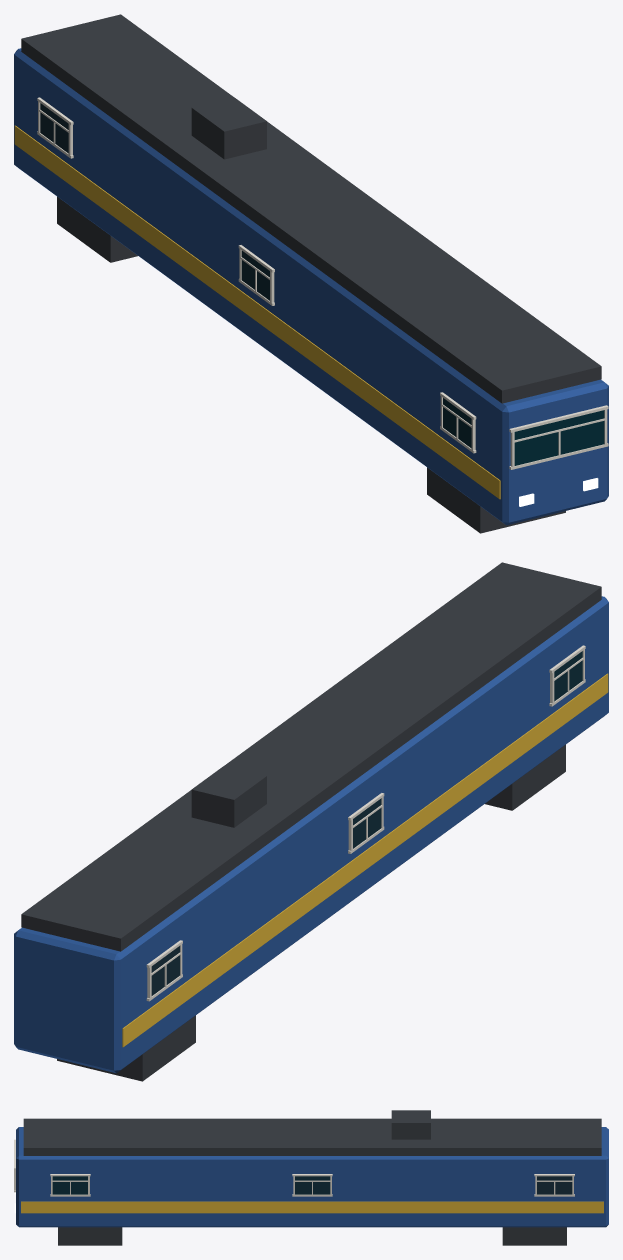
Rendered from train_loco.glb.
3 views of the same model, one above another, from view 1: azimuth 30°, elevation 25°; view 2: azimuth 150°, elevation 25°; view 3: azimuth 270°, elevation 25° (orthographic). The views are drawn at different scales.
Visible parts, largest first — view 1: train_loco; view 2: train_loco; view 3: train_loco.
Boxes of the visible parts, left/top/right/bottom form: train_loco: left=14, top=14, right=608, bottom=533; train_loco: left=14, top=562, right=608, bottom=1081; train_loco: left=14, top=1110, right=608, bottom=1245.
Bounding box in the file's own units: 3.15 × 5.2 × 24.09.
